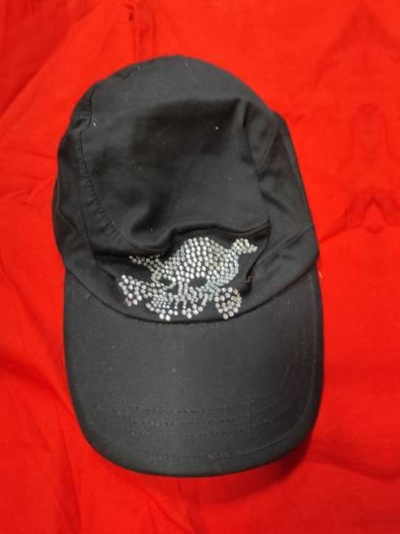Hat: (21, 9, 365, 498), (387, 0, 400, 477)
